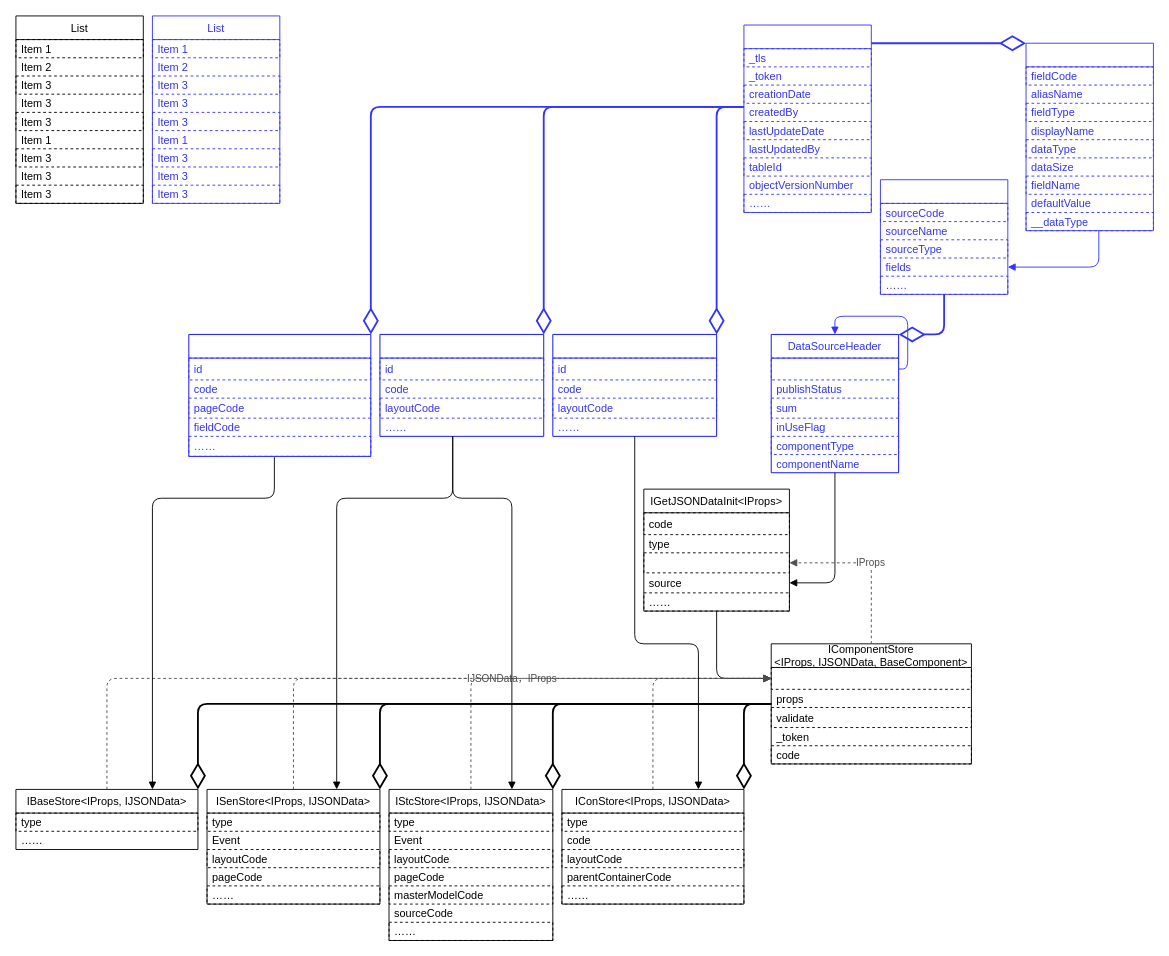
Image size: 1169x956. Some labels were removed from this diagram. The shapes that lost their labels are listed below. From the top down, each one's box as (x1, y1, x2, y2) in pixels, then its label:
(743, 24, 871, 212): AuditDomain
(1025, 42, 1153, 231): BaseDataSourceField
(880, 179, 1008, 294): BaseDataSourceHeader
(379, 334, 544, 436): component.BaseComponent
(552, 334, 717, 436): container.BaseContainer
(770, 357, 899, 380): children
(188, 334, 371, 456): basicComponent.BaseBasicComp
(643, 552, 789, 573): attributeJson
(770, 667, 971, 689): getJSONData
